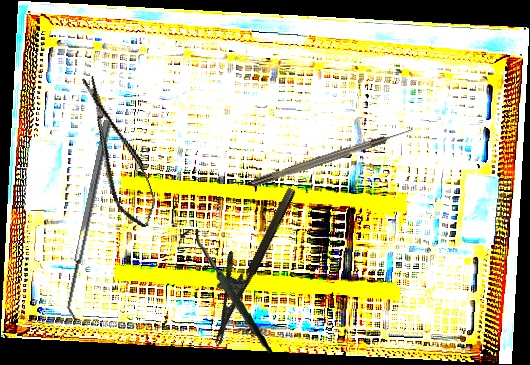Hook Surgical: (178, 223, 274, 360), (250, 126, 413, 188)
Micro Scissor: (73, 69, 163, 234)
Needle Holder: (189, 176, 299, 346)
Spatula Surgical: (62, 119, 119, 320)
